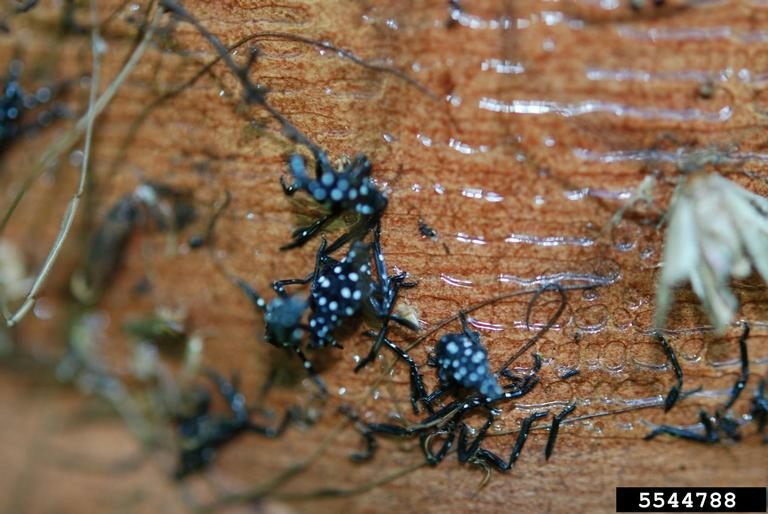instar nymph (1-3): (397, 305, 548, 432), (265, 130, 386, 242), (289, 241, 406, 348), (241, 269, 314, 358)
